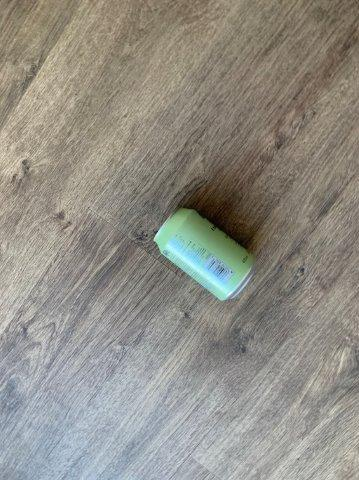kaleng: (156, 209, 254, 301)
